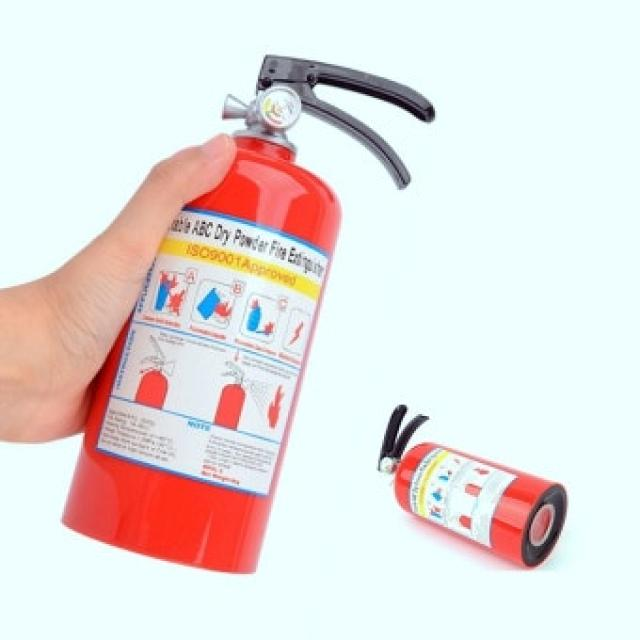pressure gauge: (256, 85, 301, 131)
